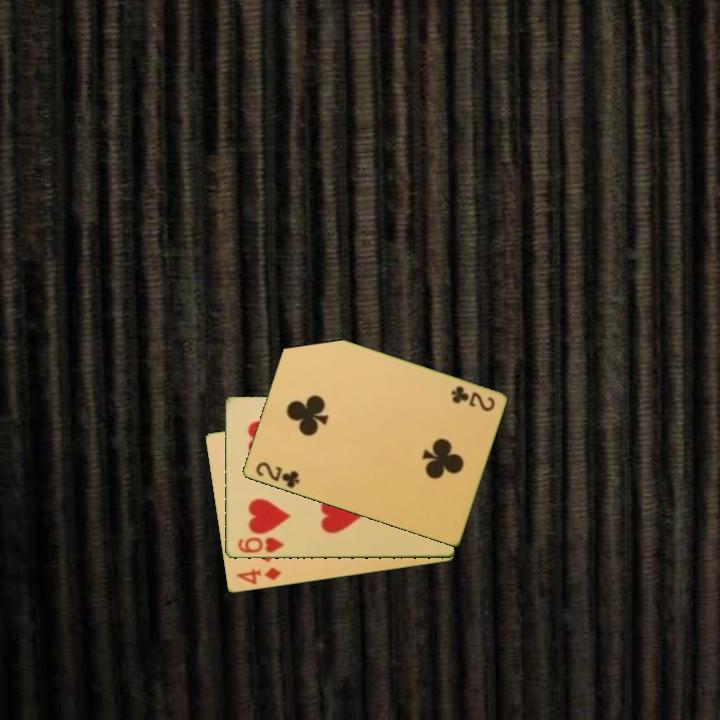2c: (252, 458, 302, 491), (447, 382, 497, 414)
4d: (232, 564, 284, 588)
6h: (235, 534, 286, 556)
